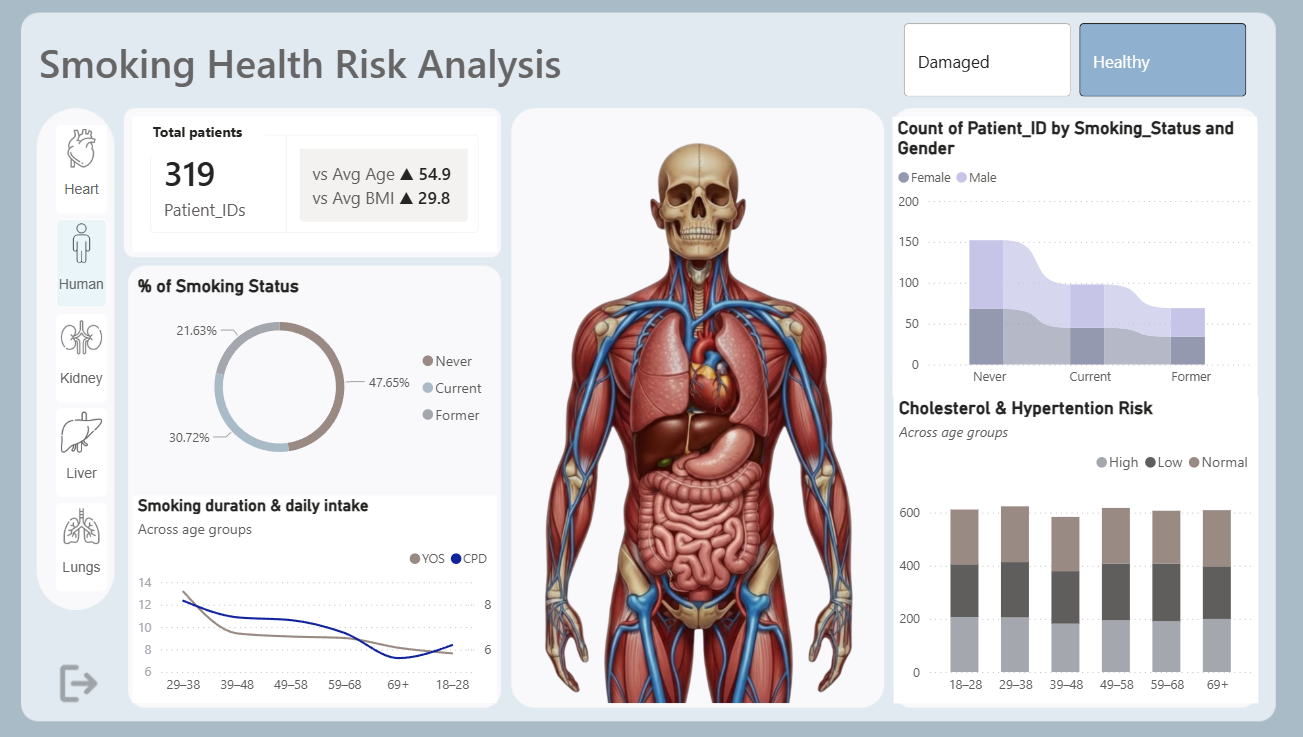

This screenshot's page, from the dashboard's own definition file:
{"tool":"powerbi","page":{"name":"Page 1","canvas":[1280,720],"ordinal":0},"visuals":[{"type":"cardVisual","fields":{"Data":["CountNonNull(health_dataset.Patient_ID)"]},"box":[145.5,118,347.2,129],"z":0},{"type":"advancedSlicerVisual","fields":{"Values":["condition.Organ_Condition"]},"box":[875.5,23.3,336.2,81],"z":1},{"type":"ChicletSlicer1448559807354","fields":{"Category":["Organs.Organ"],"Image":["Organs.Icon_URL"]},"box":[64.5,118,70,465.2],"z":2},{"type":"image","box":[511.8,118,347.2,558.5],"z":3},{"type":"donutChart","title":"% of Smoking Status","fields":{"Category":["health_dataset.Smoking_Status"],"Y":["CountNonNull(health_dataset.Smoking_Status)"]},"box":[145.5,269,347.2,193.5],"z":4},{"type":"lineChart","title":"Smoking duration & daily intake ","fields":{"Category":["health_dataset.Age Group"],"Y":["Avg(health_dataset.Years_of_Smoking)"],"Y2":["Avg(health_dataset.Cigarettes_Per_Day)"]},"box":[145.5,478.9,347.2,197.6],"z":5},{"type":"ribbonChart","fields":{"Category":["health_dataset.Smoking_Status"],"Y":["CountNonNull(health_dataset.Patient_ID)"],"Series":["health_dataset.Gender"]},"box":[868.6,118,347.2,266.2],"z":6},{"type":"columnChart","title":"Cholesterol & Hypertention Risk","fields":{"Category":["health_dataset.Age Group"],"Y":["Avg(health_dataset.Cholesterol_Level)"],"Series":["health_dataset.BP_Risk"]},"box":[870,384.2,347.2,292.3],"z":7},{"type":"textbox","box":[159.2,118,111.1,38.4],"z":8},{"type":"textbox","box":[50.8,35.7,668.3,68.6],"z":9}]}

Visuals, with their boxes in screenshot pixels (x1, y1, x2, y2), scaled from the page's 1280x720 canvas onto the 1303x737 screenshot:
cardVisual - CountNonNull(health_dataset.Patient_ID): <region>148, 121, 502, 253</region>
advancedSlicerVisual - condition.Organ_Condition: <region>891, 24, 1233, 107</region>
ChicletSlicer1448559807354 - Organs.Organ x Organs.Icon_URL: <region>66, 121, 137, 597</region>
image: <region>521, 121, 874, 692</region>
"% of Smoking Status" donutChart: <region>148, 275, 502, 473</region>
"Smoking duration & daily intake " lineChart: <region>148, 490, 502, 692</region>
ribbonChart - health_dataset.Smoking_Status x CountNonNull(health_dataset.Patient_ID): <region>884, 121, 1238, 393</region>
"Cholesterol & Hypertention Risk" columnChart: <region>886, 393, 1239, 692</region>
textbox: <region>162, 121, 275, 160</region>
textbox: <region>52, 37, 732, 107</region>
